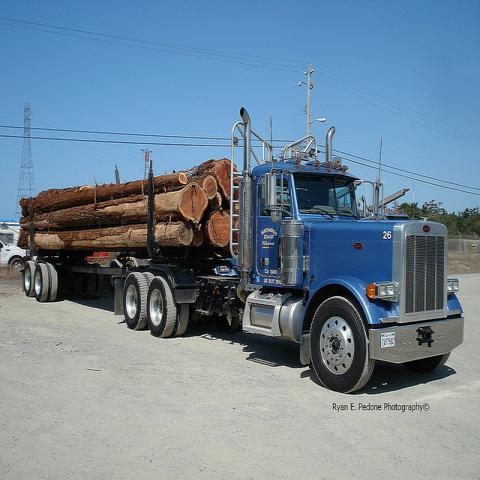car: (0, 237, 30, 268)
truck: (22, 109, 464, 393)
